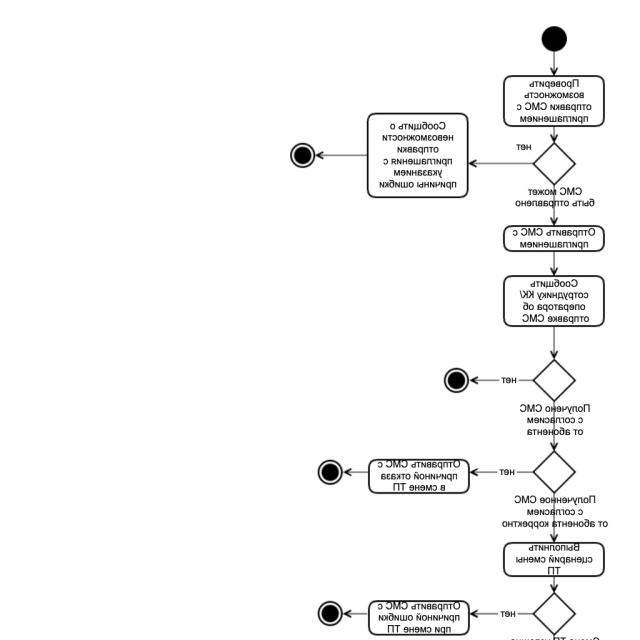arrow: (470, 607, 532, 620), (469, 374, 534, 386), (468, 157, 532, 169), (470, 466, 532, 478), (315, 149, 367, 161), (548, 401, 560, 451), (548, 493, 560, 542), (549, 184, 559, 224), (548, 326, 560, 359), (548, 51, 560, 76), (343, 608, 368, 620), (343, 466, 368, 478), (550, 252, 560, 276), (548, 125, 560, 144), (548, 578, 560, 593)
circle: (317, 460, 342, 484), (541, 27, 565, 51), (290, 144, 314, 168), (317, 602, 342, 625), (444, 369, 468, 392)
diamond: (532, 451, 574, 493), (532, 594, 574, 636), (533, 143, 574, 185), (533, 360, 574, 401)
rectangle: (366, 113, 467, 197), (503, 75, 603, 127), (503, 275, 604, 326), (367, 600, 469, 635), (503, 542, 604, 577), (368, 459, 468, 494), (503, 225, 603, 252)
text_region: (502, 494, 610, 530), (519, 402, 591, 437), (514, 185, 596, 208), (500, 609, 518, 619), (515, 142, 532, 152), (498, 468, 516, 477), (500, 376, 517, 384)
